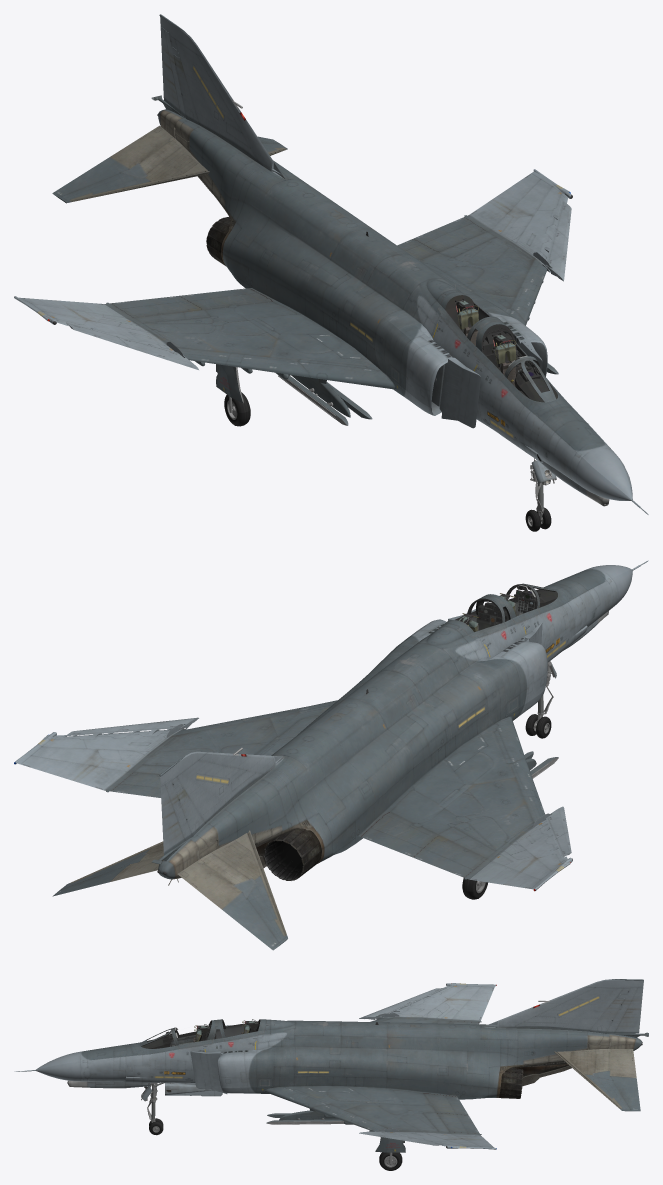
3 renders of one model, top to bottom at view 1: azimuth 30°, elevation 25°; view 2: azimuth 150°, elevation 25°; view 3: azimuth 270°, elevation 25°, orthographic. The views are drawn at different scales.
Parts seen in each view (by area): view 1: Part1_5, Part1_3_4, Part1_1_2; view 2: Part1_5, Part1_3_4, Part1_1_2; view 3: Part1_5, Part1_1_2, Part1_3_4.
Boxes of the visible parts, box(x1,y1,x2,y2) form: Part1_5: box(14, 14, 648, 514); Part1_3_4: box(445, 295, 557, 402); Part1_1_2: box(216, 364, 556, 531); Part1_5: box(14, 560, 648, 950); Part1_3_4: box(455, 584, 557, 632); Part1_1_2: box(462, 661, 556, 899); Part1_5: box(14, 979, 648, 1149); Part1_1_2: box(141, 1082, 405, 1170); Part1_3_4: box(141, 1019, 260, 1048).
Bounding box in the file's own units: 12.31 × 5.38 × 20.07.
2 materials, 2 textured.
